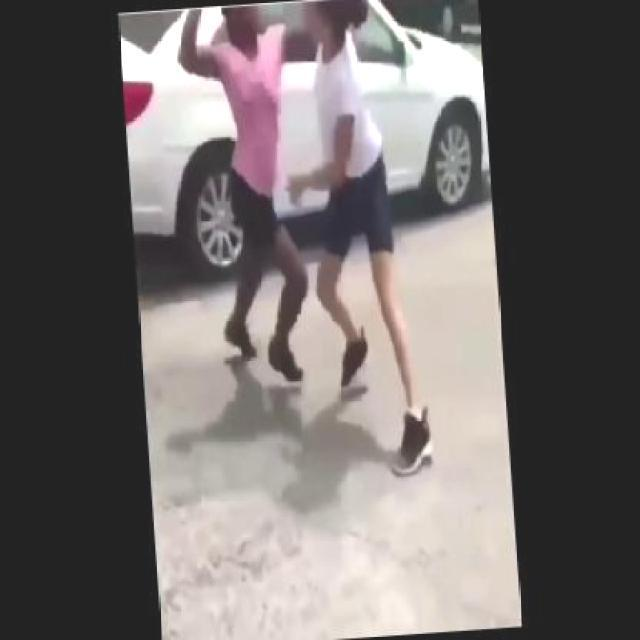fight: (172, 0, 435, 492)
